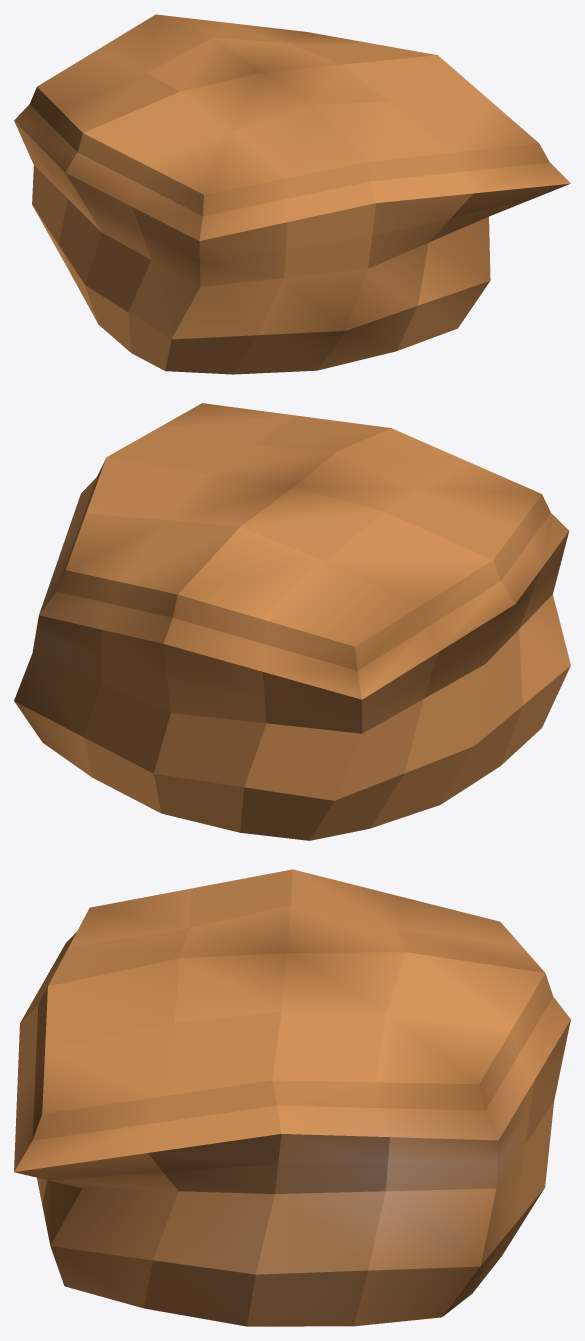
The model's file is Rock_Desert04.fbx.
3 renders of one model, top to bottom at view 1: azimuth 30°, elevation 25°; view 2: azimuth 150°, elevation 25°; view 3: azimuth 270°, elevation 25°, orthographic. The views are drawn at different scales.
Visible parts, largest first — view 1: Rock_Desert04_LOD0; view 2: Rock_Desert04_LOD0; view 3: Rock_Desert04_LOD0.
Part boxes in pixels (<box>): Rock_Desert04_LOD0: <box>14,14,570,374</box>; Rock_Desert04_LOD0: <box>14,403,570,840</box>; Rock_Desert04_LOD0: <box>14,869,570,1326</box>.
Size of what is drawn, in the model's own units: 82.47 by 51.13 by 81.15.
